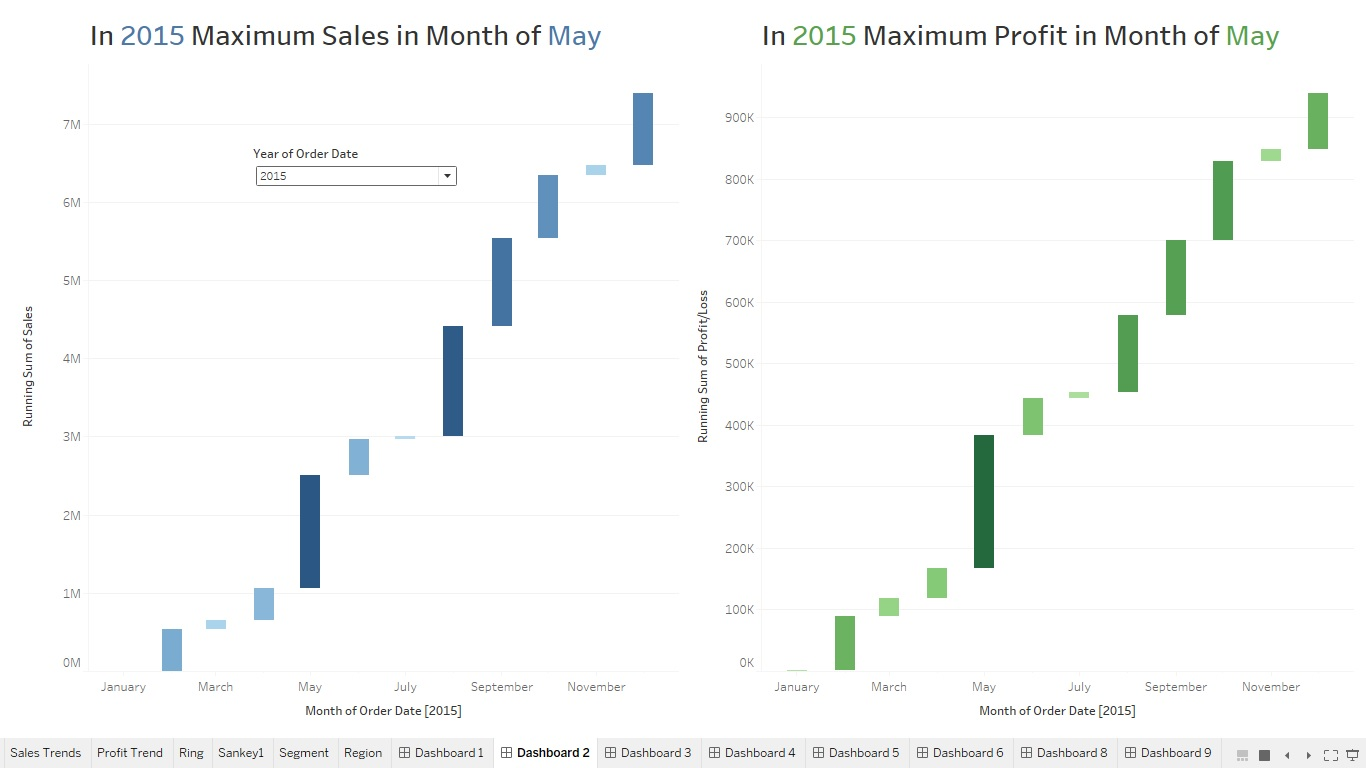

What the dashboard file says about the page in this screenshot:
{"tool":"tableau","page":{"name":"Dashboard 2","canvas":[1000,1000],"units":"permille","ordinal":1},"visuals":[{"type":"worksheet","title":"Yearly Sales","mark":"GanttBar","rows":["Sales"],"cols":["Order Date"],"box":[5.9,10.8,494,978.3]},{"type":"worksheet","title":"Year- Profit loss","mark":"GanttBar","rows":["Profit/Loss"],"cols":["Order Date"],"box":[499.9,10.8,494.3,978.3]},{"type":"filter","title":"Yearly Sales","param":"[federated.0a1m9l81tqbn4o0zzsdkd12s0d94].[yr:Order Date:ok]","box":[185.3,196,151.5,89.5]}]}

Visuals, with their boxes on the dashboard's canvas, which has no fixed pixel size, in thousandths of its width and height (x1, y1, x2, y2). These are canvas units, not pixel positions in the 1366x768 screenshot, which may show the page scaled, cropped or inside an application window:
"Yearly Sales" worksheet (GanttBar marks): [6, 11, 500, 989]
"Year- Profit loss" worksheet (GanttBar marks): [500, 11, 994, 989]
"Yearly Sales" filter: [185, 196, 337, 286]
